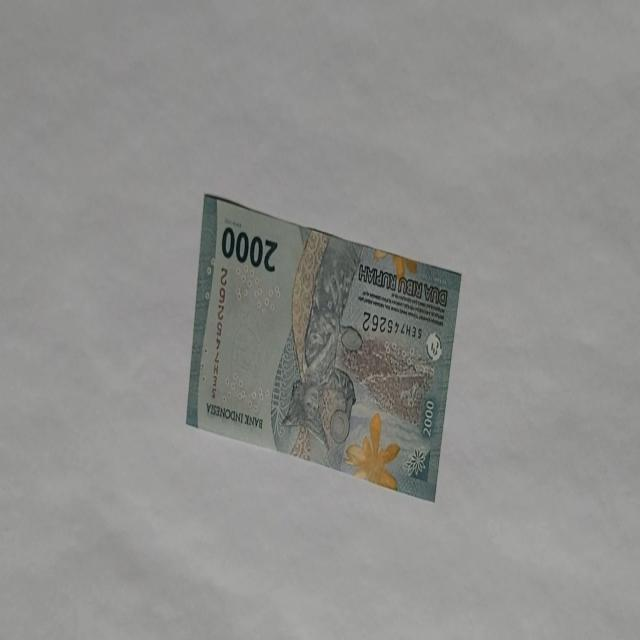dua ribu rupiah: (185, 191, 462, 502)
